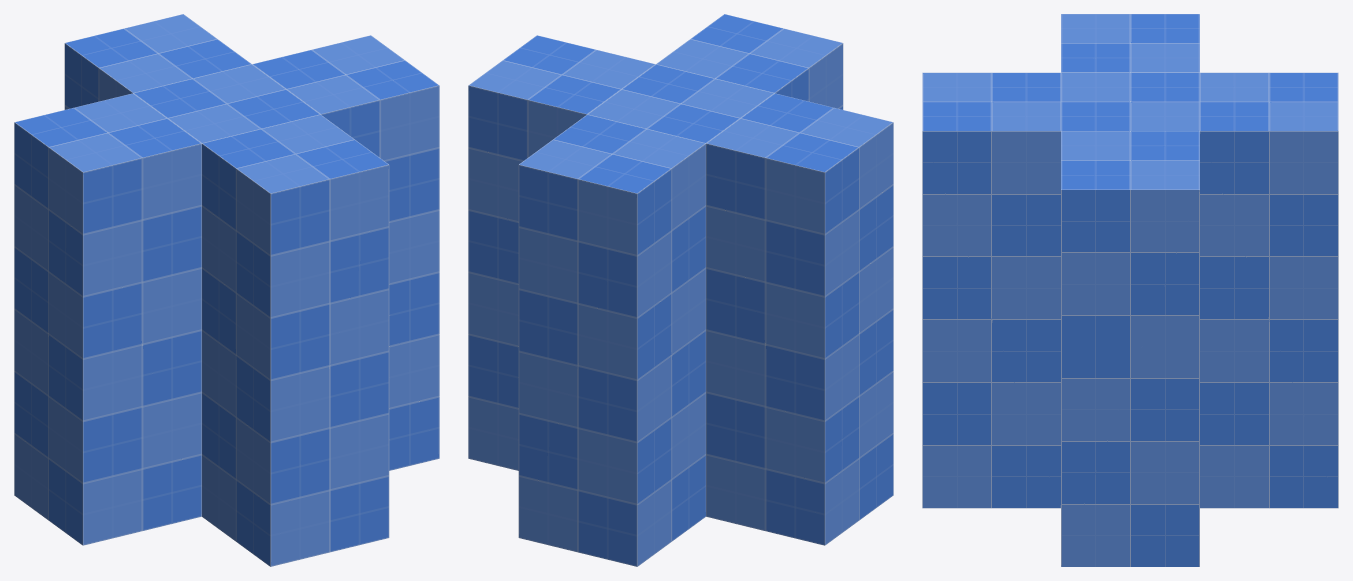
Rendered from WL_CROSS.gltf.
3 renders of one model, left to right at view 1: azimuth 30°, elevation 25°; view 2: azimuth 150°, elevation 25°; view 3: azimuth 270°, elevation 25°, orthographic.
Parts seen in each view (by area): view 1: WL_CROSS; view 2: WL_CROSS; view 3: WL_CROSS.
Part boxes in pixels (x1,y1,x2,y2): WL_CROSS: (14, 14, 439, 566); WL_CROSS: (468, 14, 893, 566); WL_CROSS: (922, 14, 1338, 566).
Size of the model in its own units: 3 by 3 by 3.
1 material, 1 textured.
